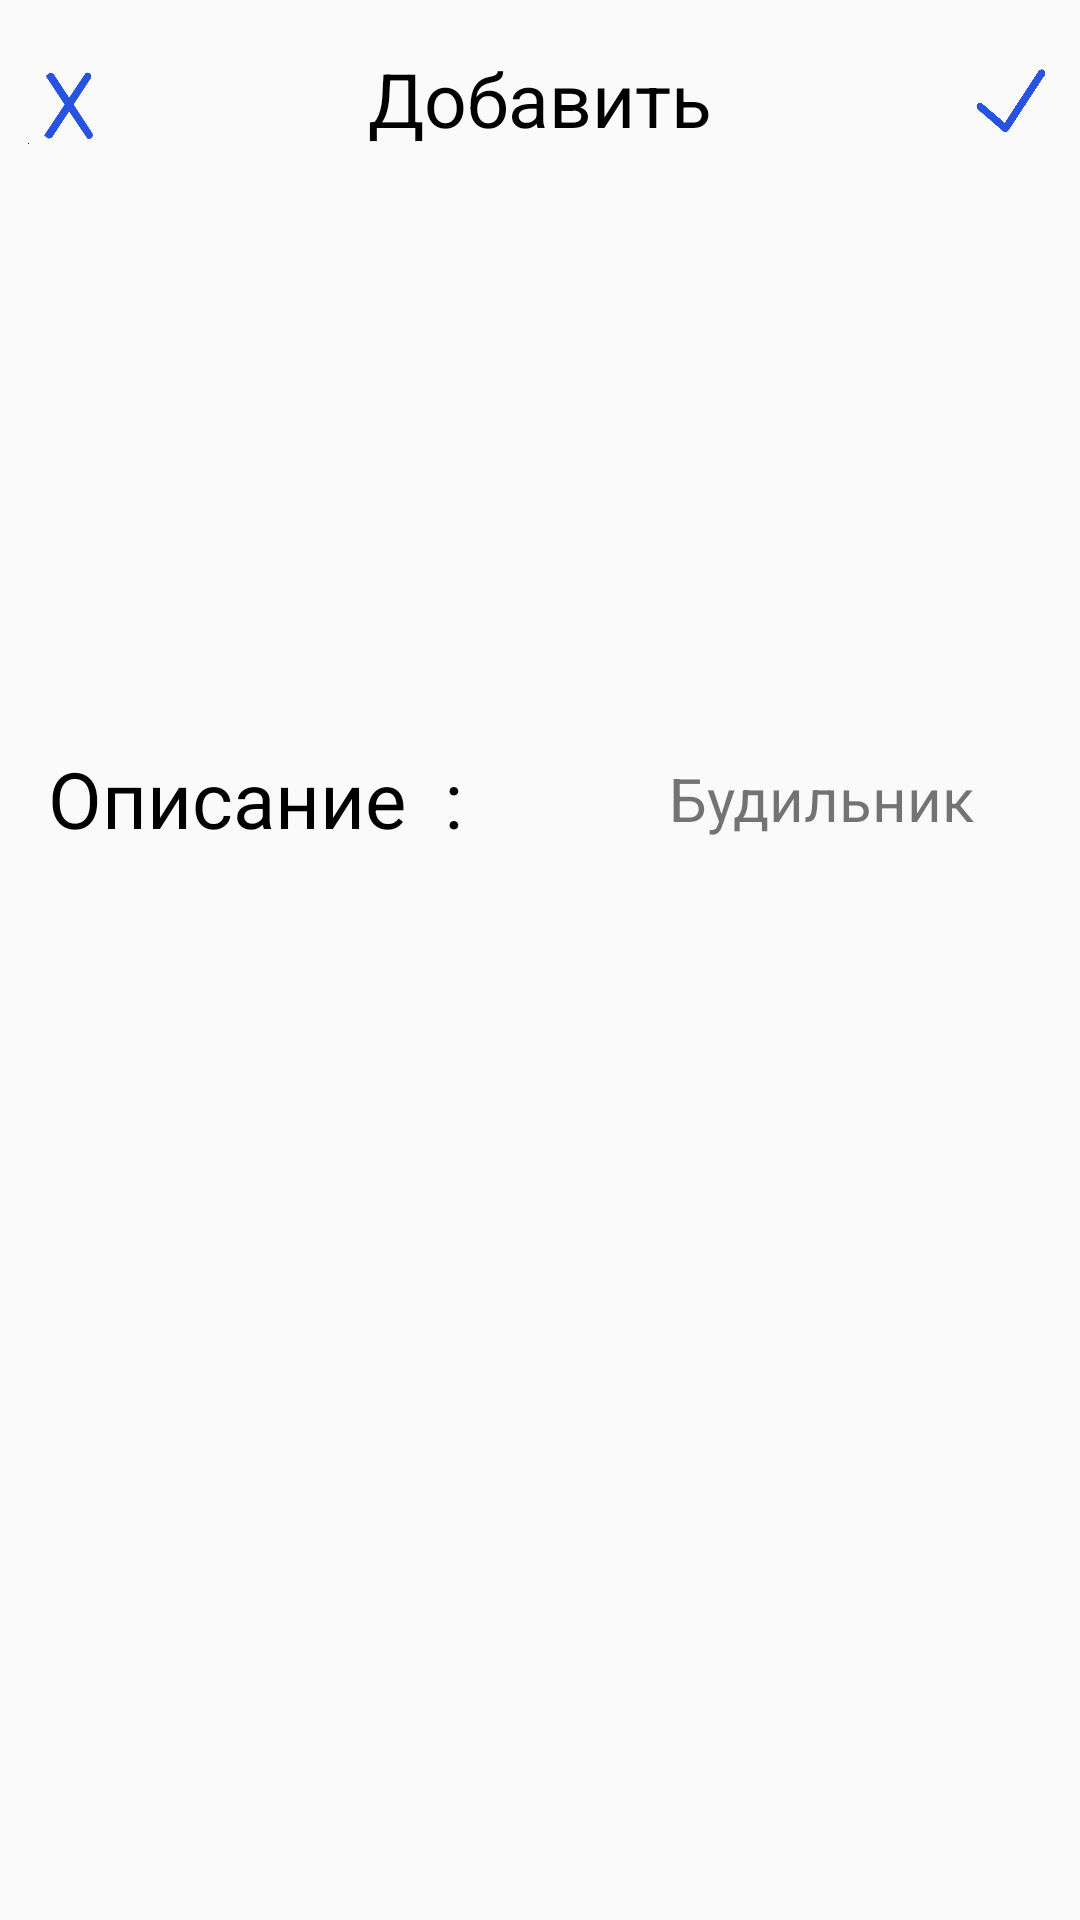

Screen size 1080 × 1920. Icon name, then its center in pixels as point (x, y):
check: point (1010, 100)
cross: point (60, 108)
